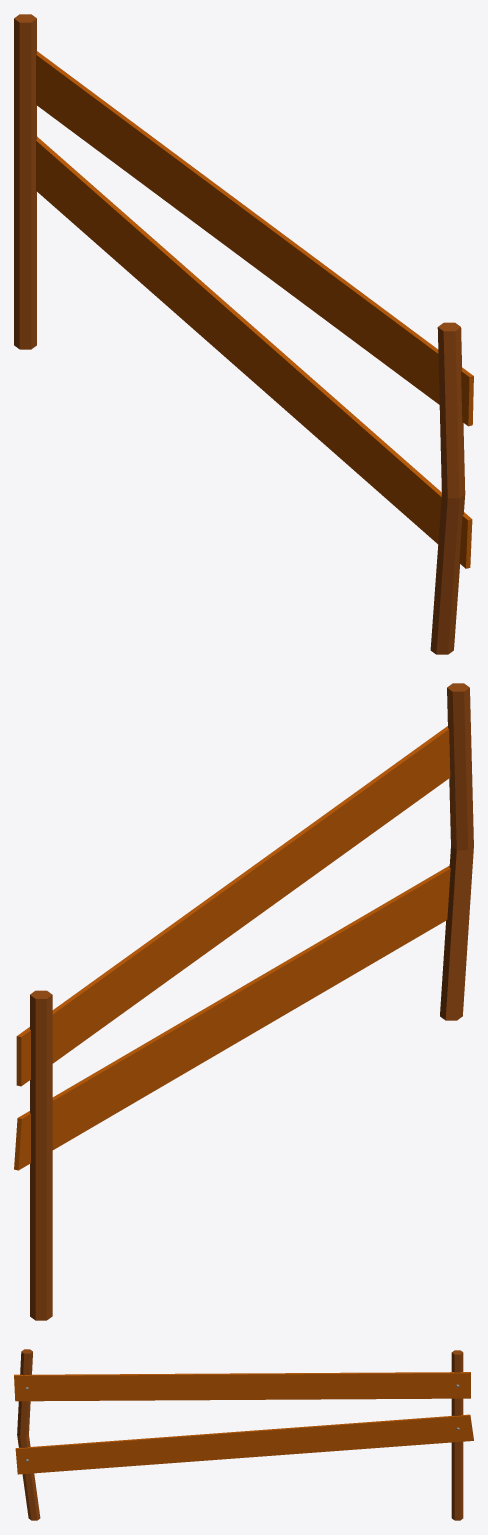
Rendered from Fence1.fbx.
3 renders of one model, top to bottom at view 1: azimuth 30°, elevation 25°; view 2: azimuth 150°, elevation 25°; view 3: azimuth 270°, elevation 25°, orthographic. The views are drawn at different scales.
Visible parts, largest first — view 1: Fence1; view 2: Fence1; view 3: Fence1.
Boxes of the visible parts, left/top/right/bottom form: Fence1: left=14, top=14, right=473, bottom=654; Fence1: left=14, top=683, right=473, bottom=1320; Fence1: left=14, top=1349, right=473, bottom=1520.
Bounding box in the file's own units: 34.86 × 522 × 1303.
